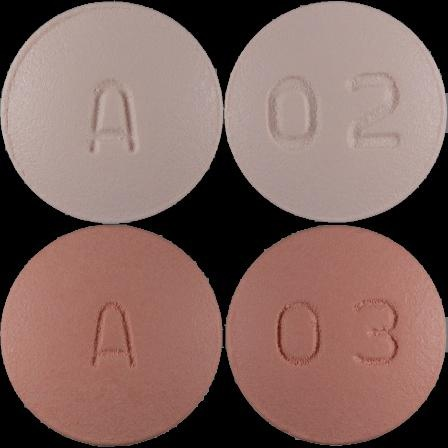50268-714: (0, 0, 224, 224)
